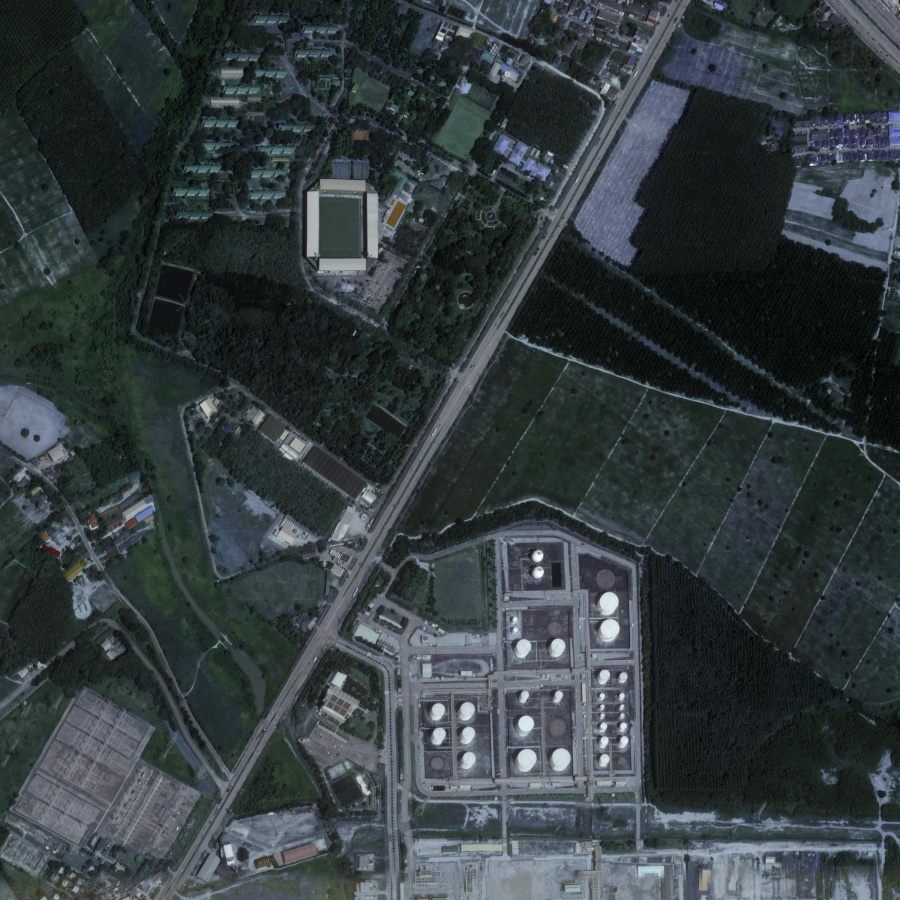PowerPlant: (366, 527, 644, 810)
